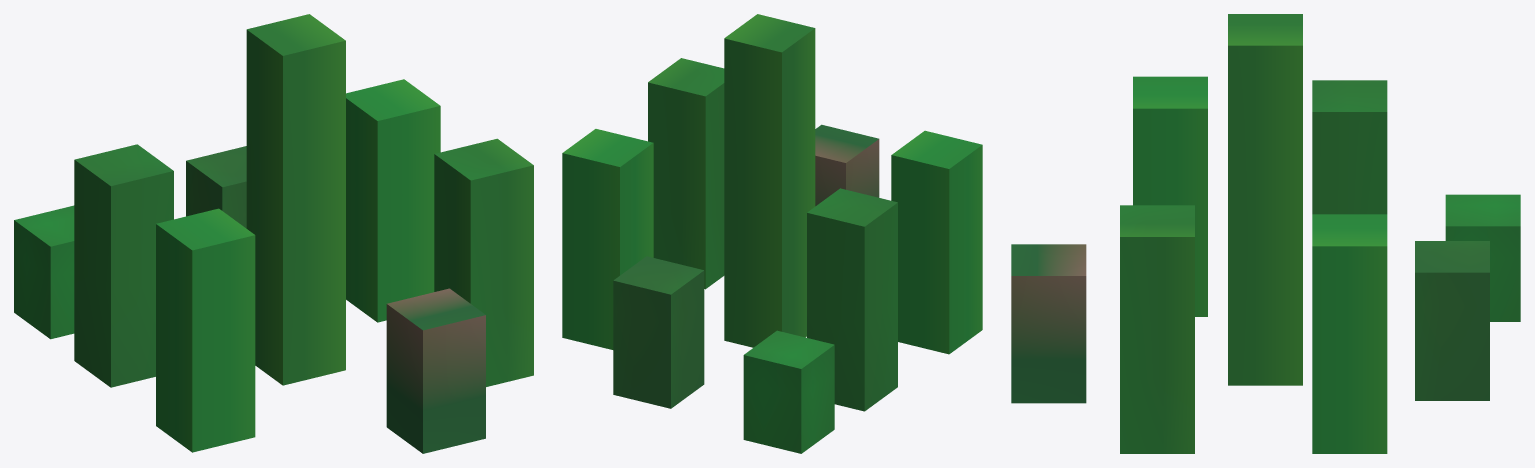
The model's file is Plants_1.fbx.
The picture shows the model from 3 angles, left to right: view 1: azimuth 30°, elevation 25°; view 2: azimuth 150°, elevation 25°; view 3: azimuth 270°, elevation 25°; orthographic projection. The views are drawn at different scales.
Parts seen in each view (by area): view 1: Plants_1; view 2: Plants_1; view 3: Plants_1.
Part boxes in pixels (x1=…): Plants_1: x1=14, y1=14, x2=533, y2=453; Plants_1: x1=562, y1=14, x2=982, y2=453; Plants_1: x1=1011, y1=14, x2=1520, y2=453.
Bounding box in the file's own units: 18.61 × 17.5 × 23.76.
Materials: 1 (1 with a texture image).
